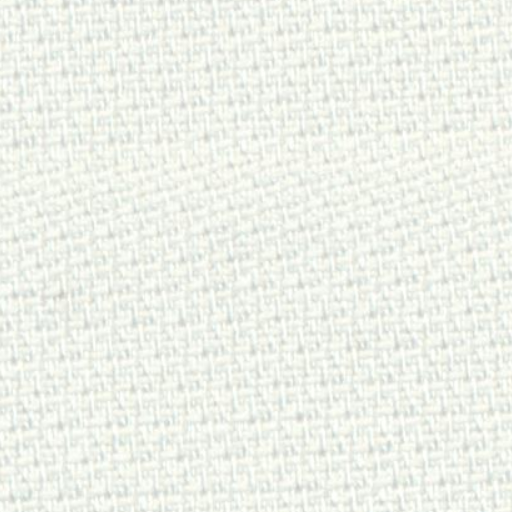TuoSha: (24, 107, 497, 318)
